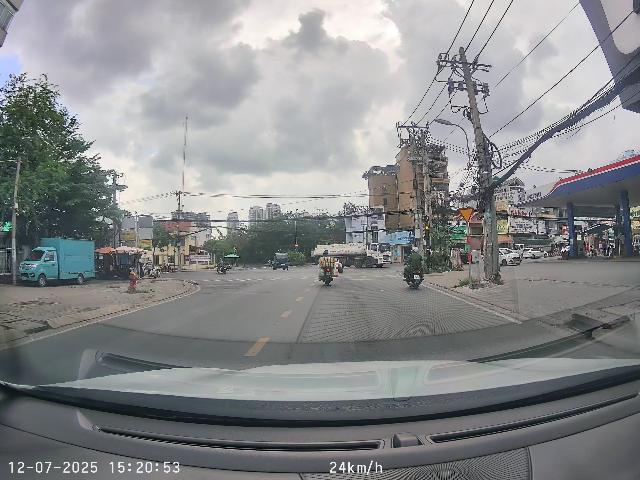208-giao-nhau-voi-duong-uu-tien: (457, 208, 474, 223)
